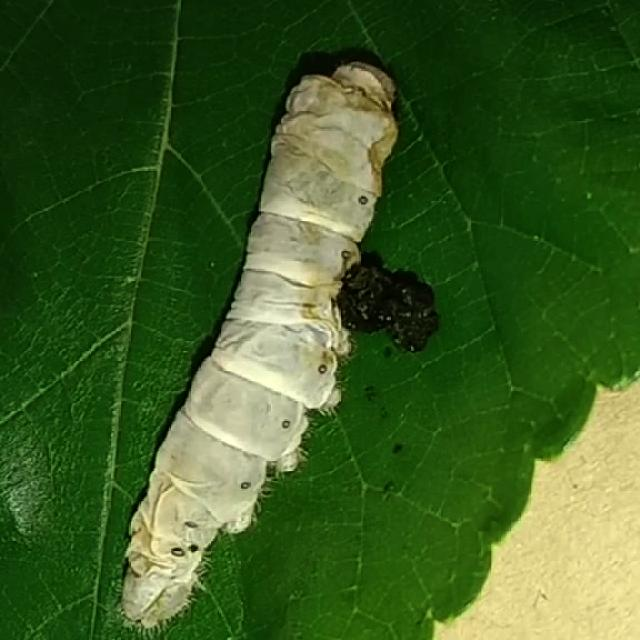Grasserie: (104, 40, 452, 640)
